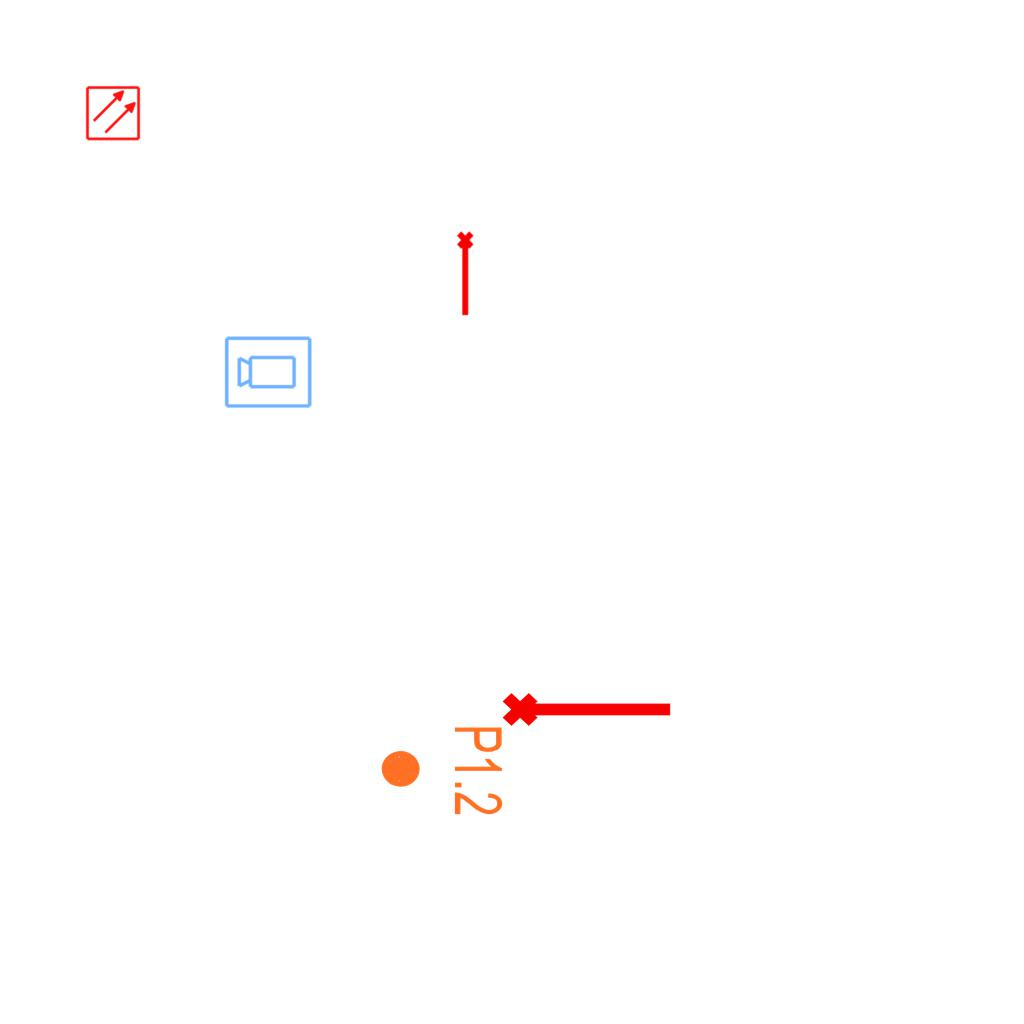ASR_Ansaugoeffnung: (500, 684, 676, 730), (455, 230, 478, 318)
Downlight_LED_Einbauleuchten_Flur: (378, 724, 506, 817)
KFO_Kamera_mit_Festobjektiv: (223, 333, 314, 410)
RMO_Rauchmelder_optischer: (85, 85, 141, 141)
